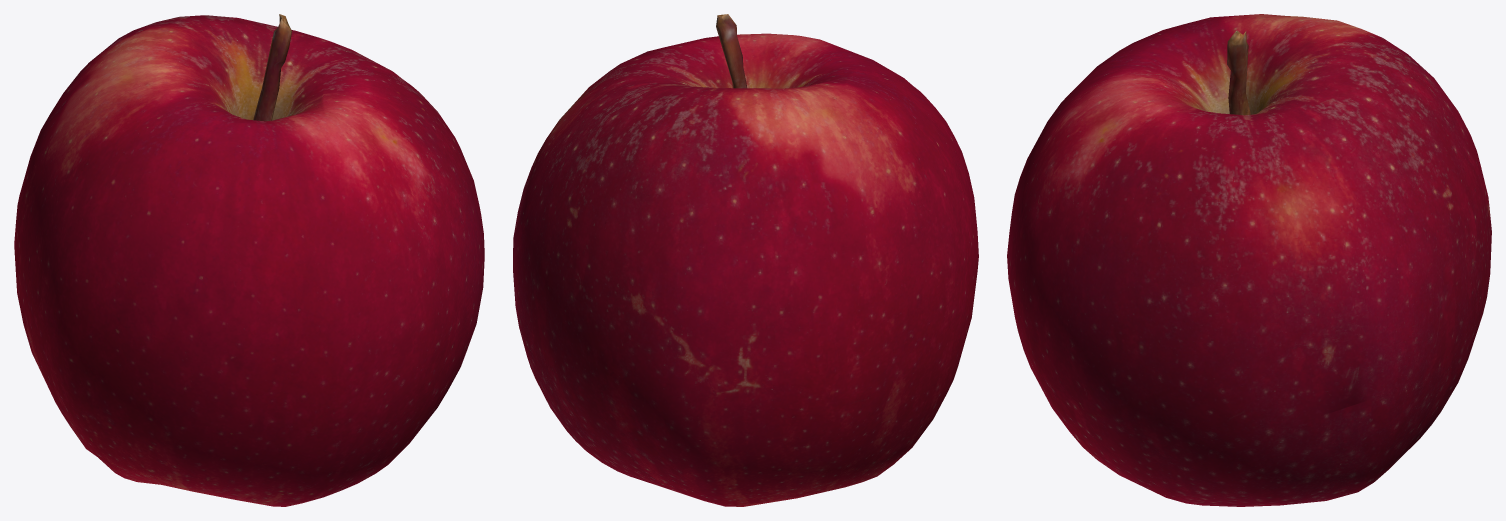
The model's file is red_apple.glb.
3 views of the same model, side by side, from view 1: azimuth 30°, elevation 25°; view 2: azimuth 150°, elevation 25°; view 3: azimuth 270°, elevation 25° (orthographic). The views are drawn at different scales.
Visible parts, largest first — view 1: tgzoahbpa_LOD0_TIER2_000; view 2: tgzoahbpa_LOD0_TIER2_000; view 3: tgzoahbpa_LOD0_TIER2_000.
Boxes of the visible parts, <box> form: tgzoahbpa_LOD0_TIER2_000: <box>14,14,484,506</box>; tgzoahbpa_LOD0_TIER2_000: <box>513,14,978,506</box>; tgzoahbpa_LOD0_TIER2_000: <box>1007,14,1491,506</box>.
Size of the model in its own units: 0.0756 by 0.08 by 0.0766.
1 material, 1 textured.
